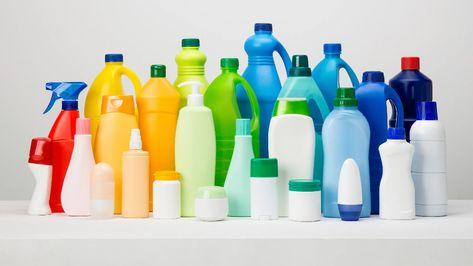HDPE: (237, 31, 292, 158), (203, 69, 260, 186), (355, 82, 404, 215), (273, 77, 331, 177), (269, 114, 315, 217), (174, 106, 216, 216), (95, 115, 138, 214), (136, 77, 181, 170), (410, 120, 448, 217), (48, 110, 80, 213), (389, 70, 433, 143), (378, 139, 415, 219), (311, 53, 360, 113), (61, 135, 96, 216), (224, 135, 255, 217), (122, 149, 149, 218), (43, 81, 88, 115), (28, 163, 52, 216), (251, 178, 278, 220), (338, 158, 362, 204), (288, 191, 321, 222), (90, 163, 115, 199), (194, 197, 229, 221), (271, 98, 311, 118), (177, 80, 205, 106), (28, 136, 52, 165), (101, 95, 135, 115), (251, 158, 278, 178), (90, 200, 115, 220), (290, 55, 311, 77), (288, 178, 321, 192), (334, 87, 358, 106), (337, 204, 363, 221), (416, 101, 438, 120), (195, 186, 227, 198), (152, 169, 179, 181), (129, 128, 141, 149), (401, 57, 420, 70), (386, 127, 406, 139), (76, 118, 90, 135), (236, 119, 250, 136), (363, 71, 384, 82), (220, 58, 239, 70), (150, 64, 166, 78), (182, 38, 200, 48), (104, 53, 123, 62), (324, 43, 341, 53), (254, 23, 272, 32)
